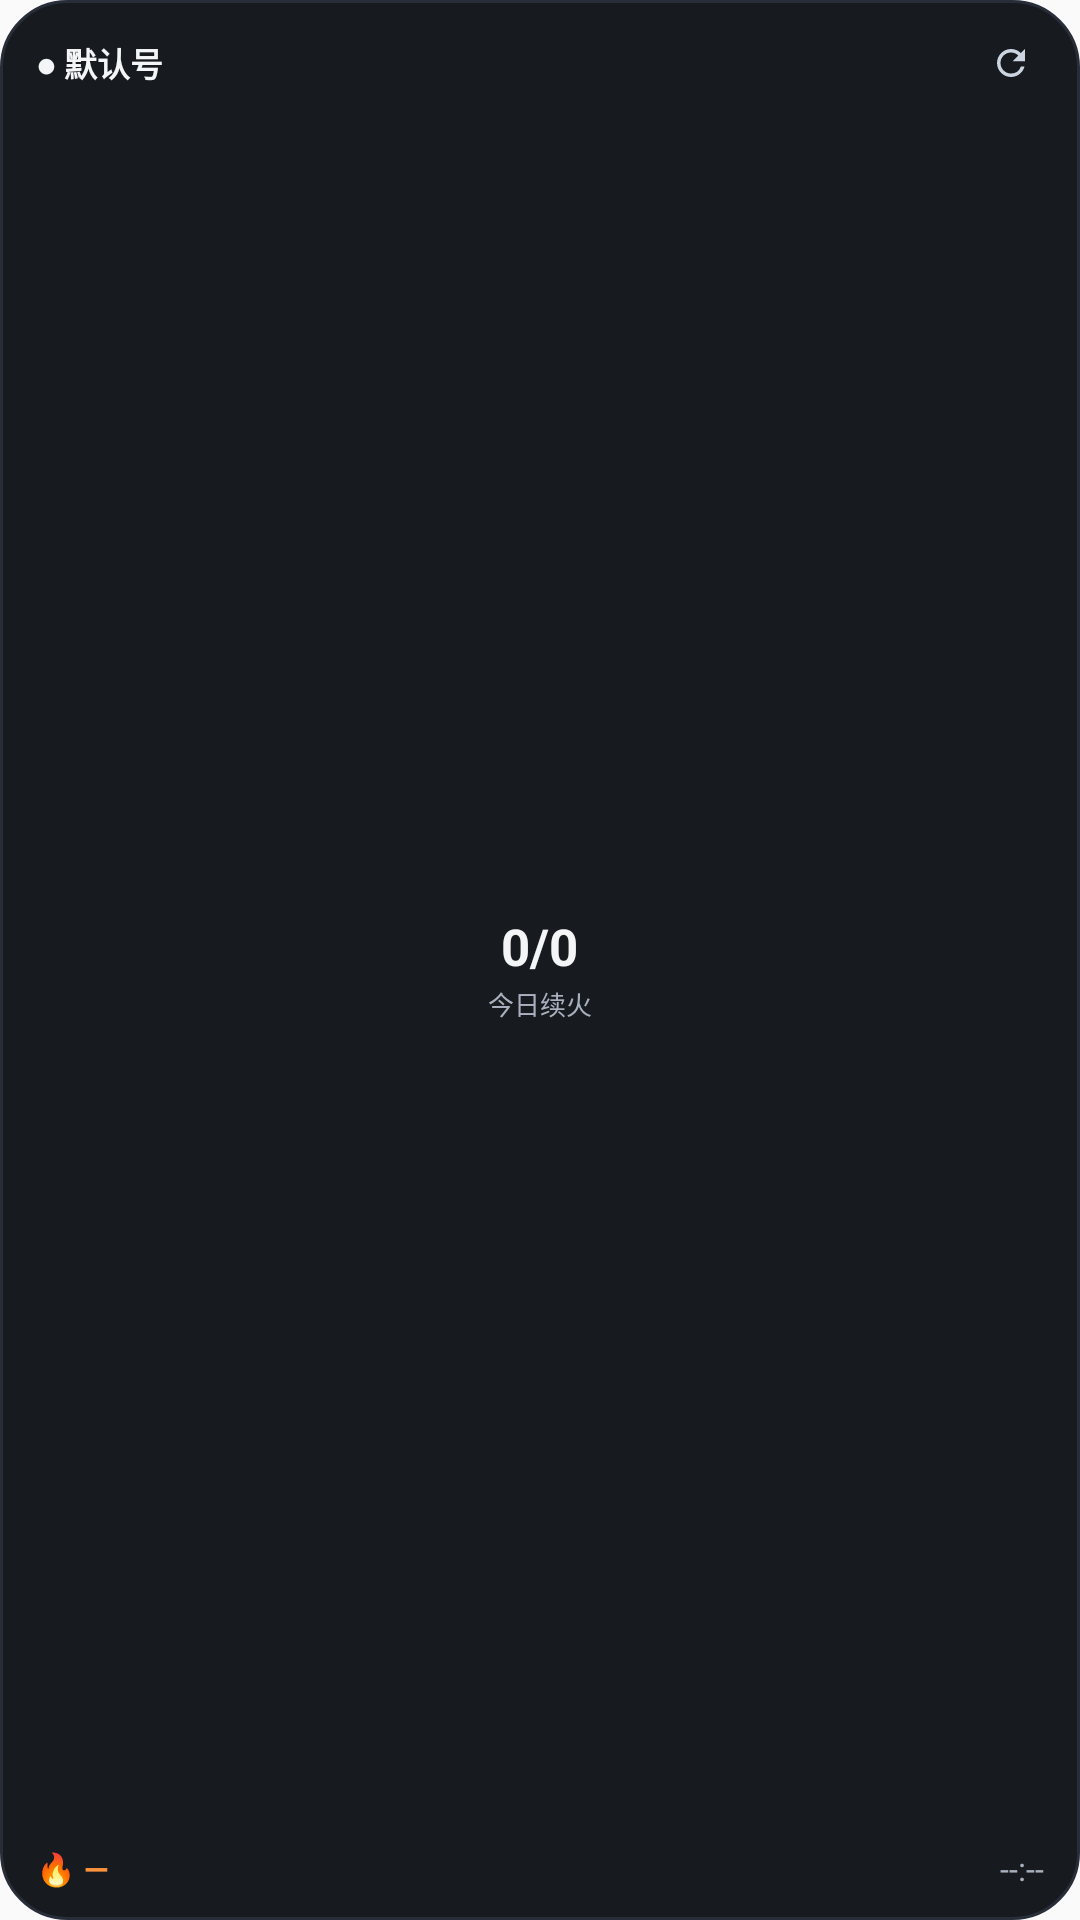

Named icons in this screenshot (1080w x 1920h) and their bounding boxes, Rect(x1, y1, x2, y2):
刷新今日续火状态: Rect(997, 49, 1025, 77)
